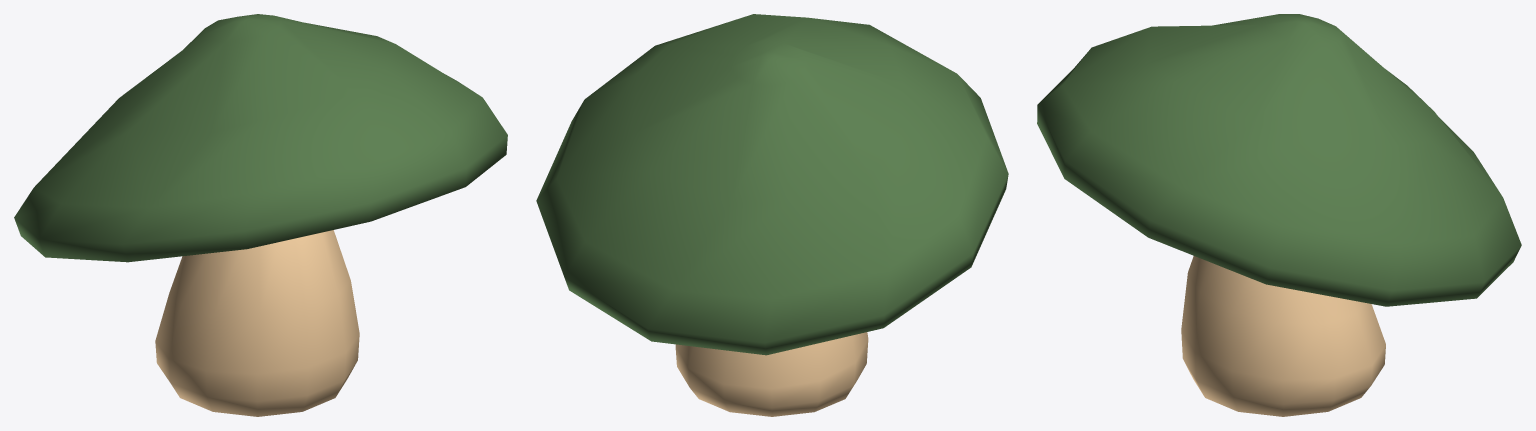
Rendered from Mushroom_01.fbx.
3 views of the same model, side by side, from view 1: azimuth 30°, elevation 25°; view 2: azimuth 150°, elevation 25°; view 3: azimuth 270°, elevation 25° (orthographic). The views are drawn at different scales.
Parts seen in each view (by area): view 1: Mushroom_01; view 2: Mushroom_01; view 3: Mushroom_01.
Boxes of the visible parts, x1,y1,x2,y2 form: Mushroom_01: (14,14,507,416); Mushroom_01: (536,14,1008,416); Mushroom_01: (1037,14,1521,416).
Bounding box in the file's own units: 185 × 177 × 148.
